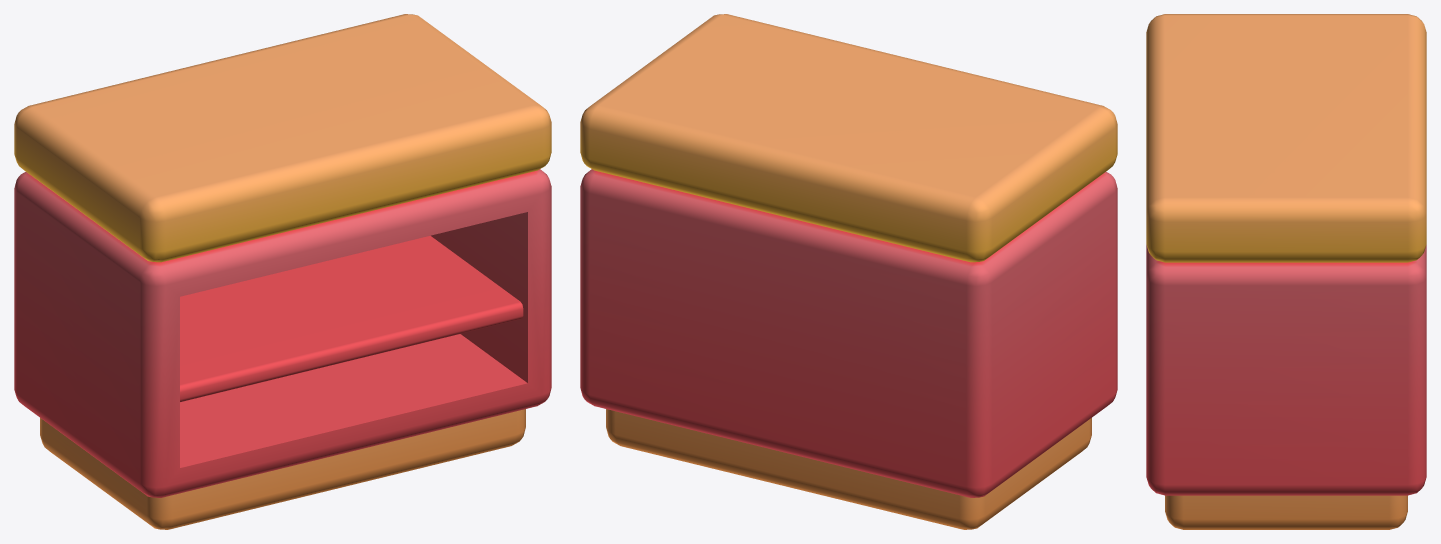
File: Kitchen_Cabinet_001.fbx
3 views of the same model, side by side, from view 1: azimuth 30°, elevation 25°; view 2: azimuth 150°, elevation 25°; view 3: azimuth 270°, elevation 25° (orthographic).
Parts seen in each view (by area): view 1: Kitchen_Cabinet_001; view 2: Kitchen_Cabinet_001; view 3: Kitchen_Cabinet_001.
Part boxes in pixels (<box>): Kitchen_Cabinet_001: <box>14,14,551,529</box>; Kitchen_Cabinet_001: <box>580,14,1117,529</box>; Kitchen_Cabinet_001: <box>1146,14,1426,529</box>.
Size of the model in its own units: 106 by 63.77 by 85.03.
